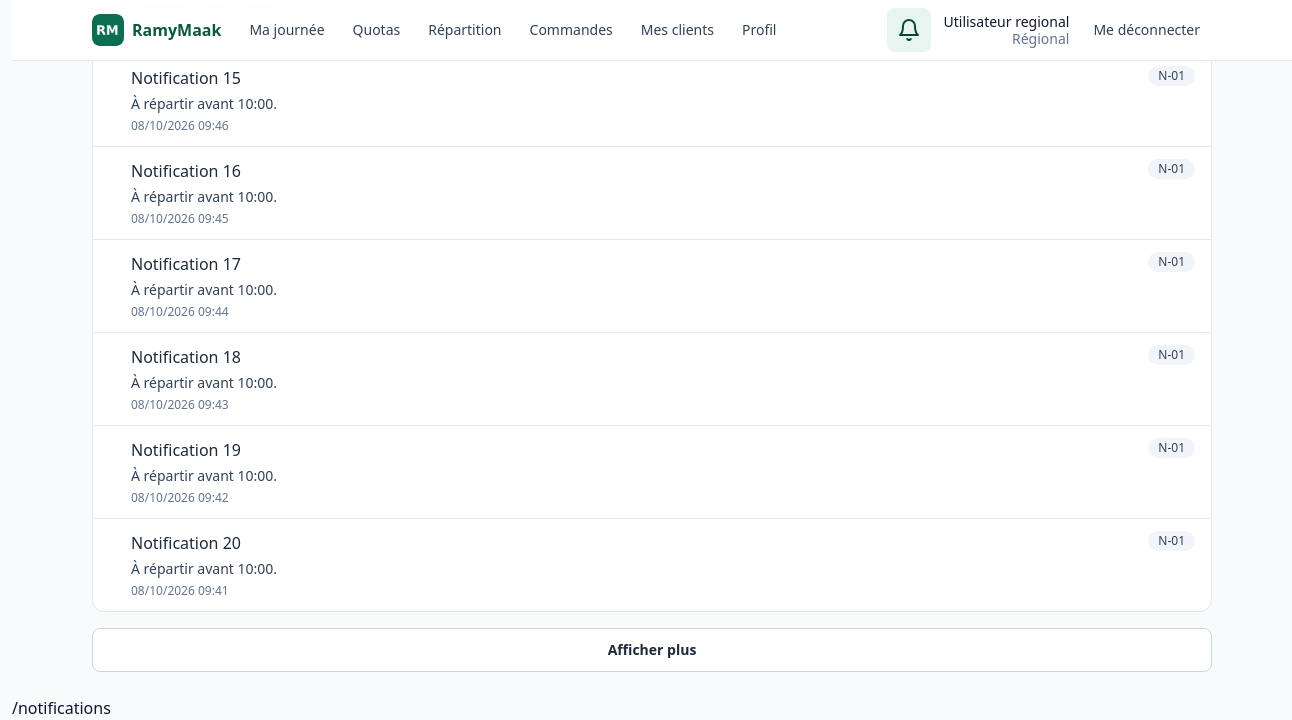
Test: notification centre › loads the next page with « Afficher plus »
(page scrolled)
Click the button "Afficher plus" at (652, 650), box [92, 628, 1212, 672]
(page scrolled)
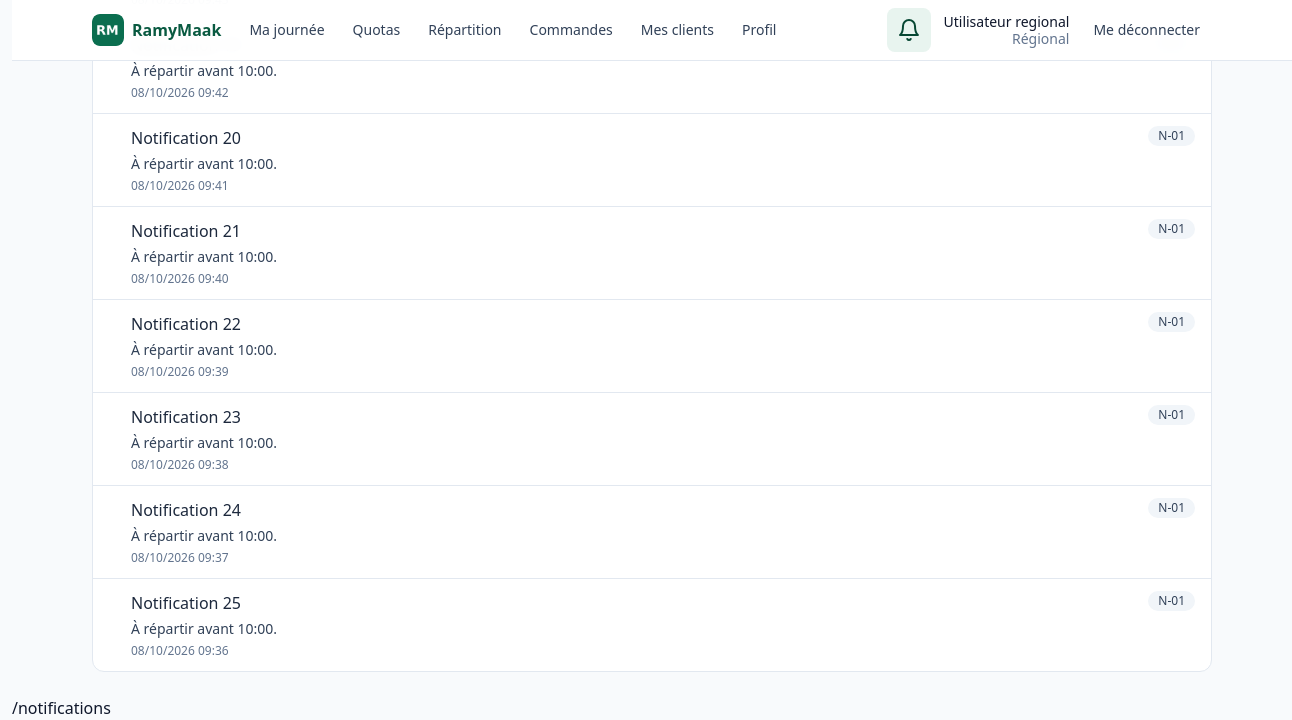
Expected: the list item that starts with "Notification 25" is shown, [93, 579, 1211, 671]
Expected: the button "Afficher plus" is gone
